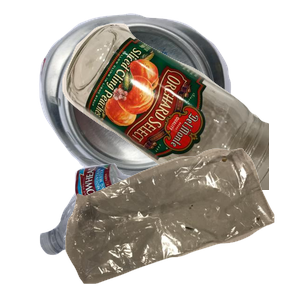glass: (60, 21, 300, 201)
metal: (37, 11, 261, 180)
plastic: (37, 144, 265, 300)
trash: (63, 145, 300, 300)
